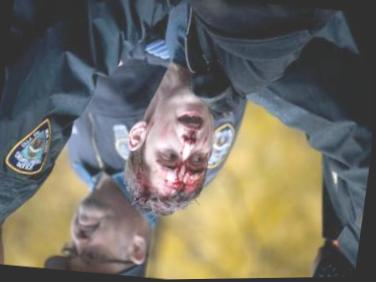Fire: (152, 100, 215, 197)
